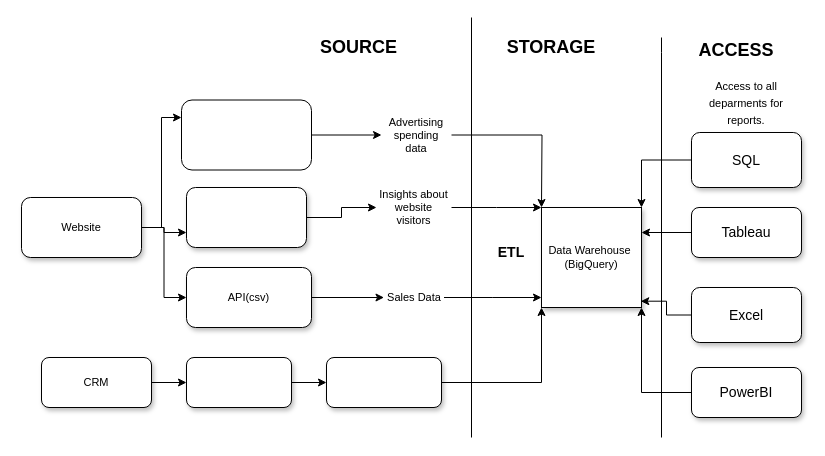
The diagram is 825 pixels wide and 456 high, and some of its shapes have lost their labels. Here are the shapes that lost their labels. From the top down, the centre of each, then its label:
At [246,134]: "Google, Bing, Instagram, Facebook, LinkedIn".
At [247,218]: "Google Analytics".
At [240,383]: "Warehouse".
At [385,383]: "OLTP(transaction processing)".
